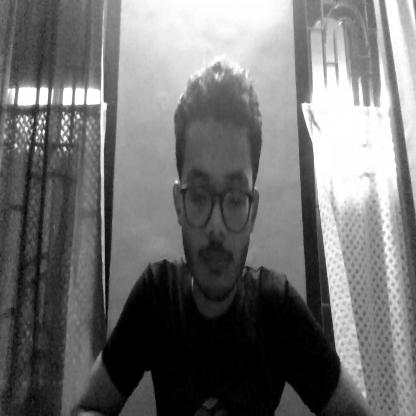Normal: (174, 54, 262, 303)
